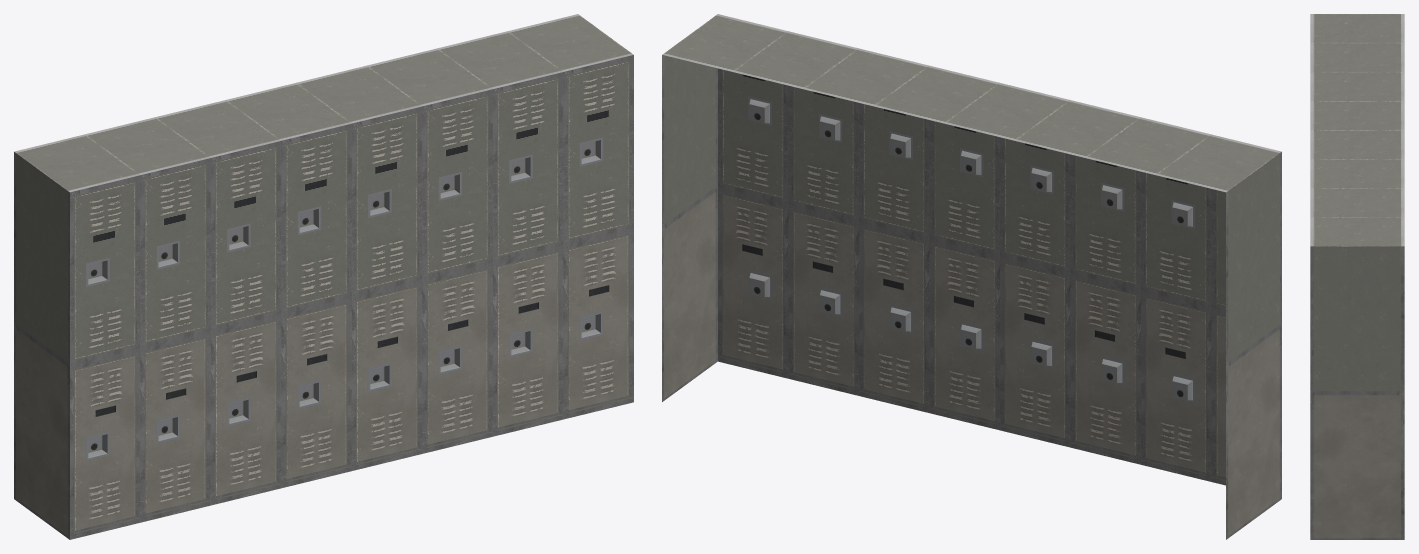
File: SM_Locker_01_B.fbx
The picture shows the model from 3 angles, left to right: view 1: azimuth 30°, elevation 25°; view 2: azimuth 150°, elevation 25°; view 3: azimuth 270°, elevation 25°; orthographic projection. The views are drawn at different scales.
Parts seen in each view (by area): view 1: SM_Locker_01_B; view 2: SM_Locker_01_B; view 3: SM_Locker_01_B.
Boxes of the visible parts, x1,y1,x2,y2 form: SM_Locker_01_B: [14, 14, 633, 539]; SM_Locker_01_B: [662, 14, 1281, 539]; SM_Locker_01_B: [1310, 14, 1404, 539].
Bounding box in the file's own units: 380 × 64.99 × 224.
Materials: 1 (1 with a texture image).
